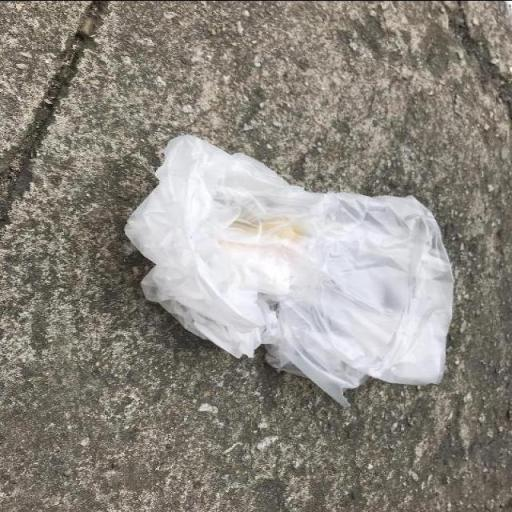plastic-bag: (118, 130, 458, 407)
